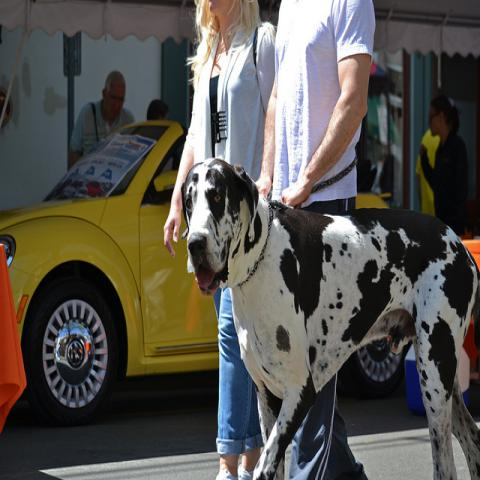car: (2, 118, 412, 427)
